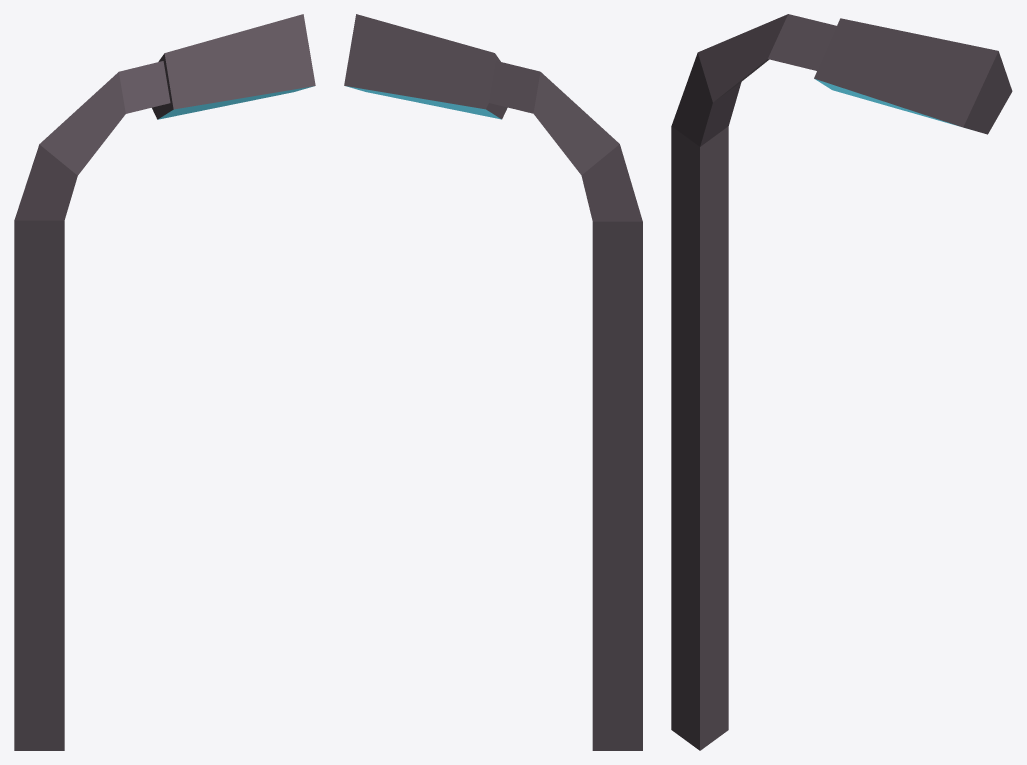
The model's file is Fbflashlight.fbx.
3 renders of one model, left to right at view 1: azimuth 30°, elevation 25°; view 2: azimuth 150°, elevation 25°; view 3: azimuth 330°, elevation 25°, orthographic. The views are drawn at different scales.
Parts seen in each view (by area): view 1: Cylinder.018; view 2: Cylinder.018; view 3: Cylinder.018.
Boxes of the visible parts, x1,y1,x2,y2 form: Cylinder.018: (14,14,315,750); Cylinder.018: (344,14,642,750); Cylinder.018: (671,14,1012,750).
Size of the model in its own units: 222 by 491 by 57.71.
